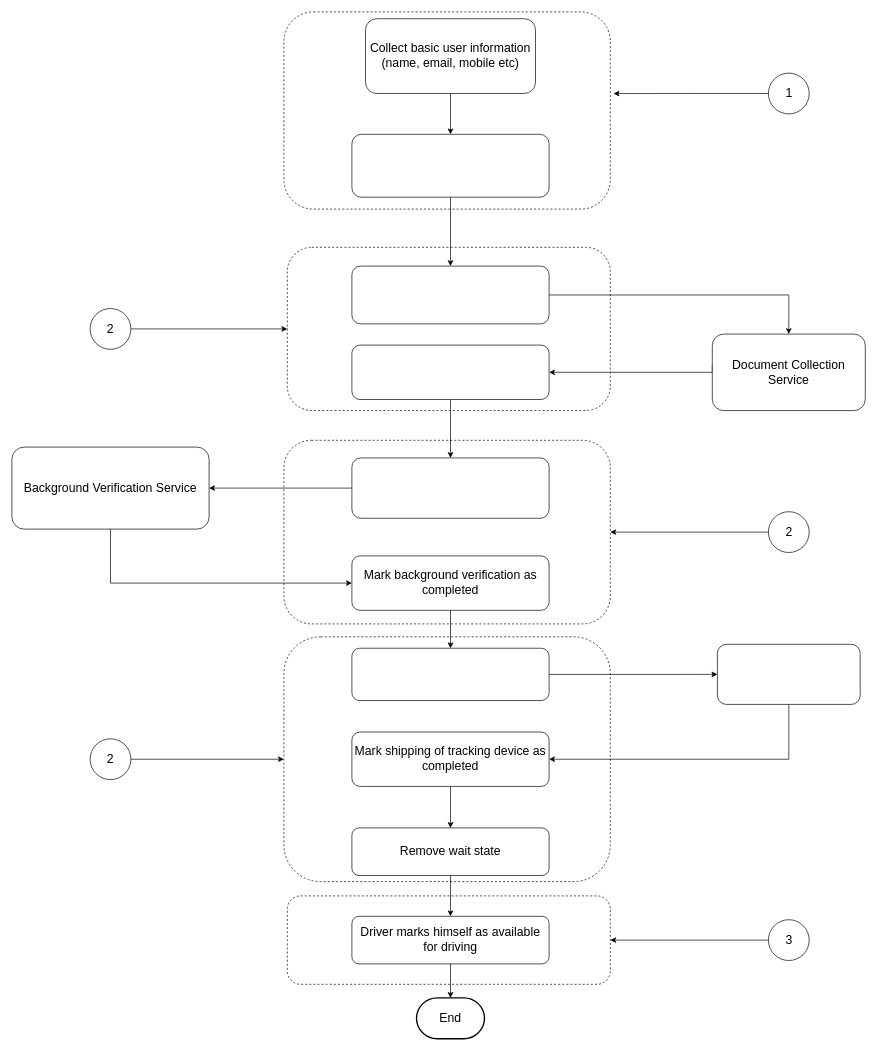
Some shapes in this 877 by 1051 pixel diagram are drawn without their labels. Each missing label, with the box of its shape:
Mark Document Collection Completed: (351, 344, 549, 400)
Mark user in wait state: (351, 134, 549, 197)
Shipping Service: (717, 644, 860, 704)
Trigger Background Verification: (351, 457, 549, 518)
Trigger Document Collection: (351, 265, 549, 324)
Trigger Shipping of tracking device: (351, 648, 549, 701)
